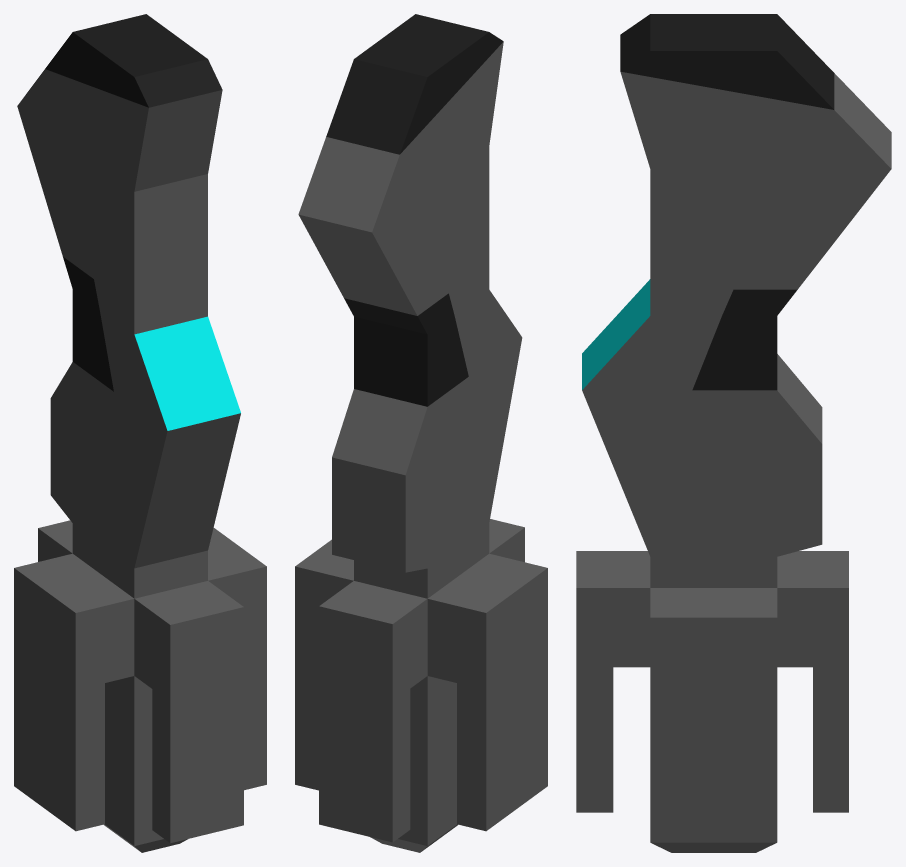
Rendered from WeaponV1WithColor.fbx.
The picture shows the model from 3 angles, left to right: view 1: azimuth 30°, elevation 25°; view 2: azimuth 150°, elevation 25°; view 3: azimuth 270°, elevation 25°; orthographic projection. The views are drawn at different scales.
Visible parts, largest first — view 1: Cube.016; view 2: Cube.016; view 3: Cube.016.
Boxes of the visible parts, bbox=[...] form: Cube.016: bbox=[14, 14, 266, 852]; Cube.016: bbox=[295, 14, 547, 852]; Cube.016: bbox=[576, 14, 891, 852].
Bounding box in the file's own units: 99.17 × 391 × 138.
